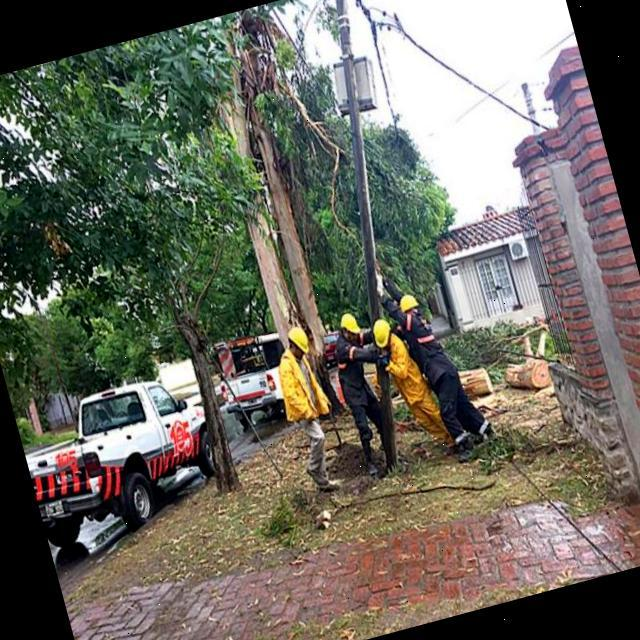Broken Pole: (330, 0, 400, 471)
